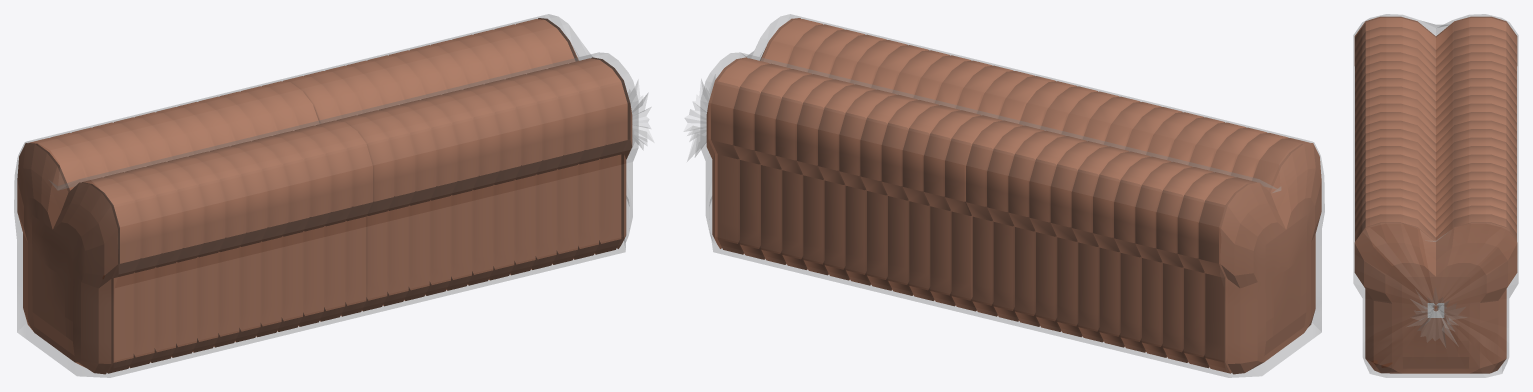
File: loaf of bread.fbx
3 views of the same model, side by side, from view 1: azimuth 30°, elevation 25°; view 2: azimuth 150°, elevation 25°; view 3: azimuth 270°, elevation 25° (orthographic). The views are drawn at different scales.
Visible parts, largest first — view 1: pPlane1, polySurface2; view 2: pPlane1, polySurface2; view 3: pPlane1, polySurface2, pasted__group1.
Boxes of the visible parts, bbox=[...] form: pPlane1: bbox=[14, 14, 654, 377]; polySurface2: bbox=[17, 18, 632, 374]; pPlane1: bbox=[683, 14, 1324, 377]; polySurface2: bbox=[706, 18, 1321, 374]; pPlane1: bbox=[1353, 14, 1518, 377]; polySurface2: bbox=[1354, 16, 1517, 373]; pasted__group1: bbox=[1427, 303, 1444, 317].
Size of the model in its own units: 17.47 by 5.19 by 5.13.
